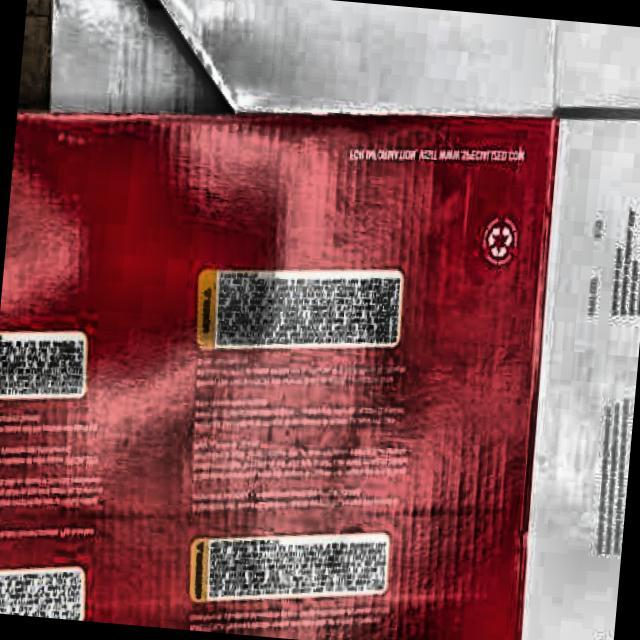cardboard: (0, 63, 571, 640)
